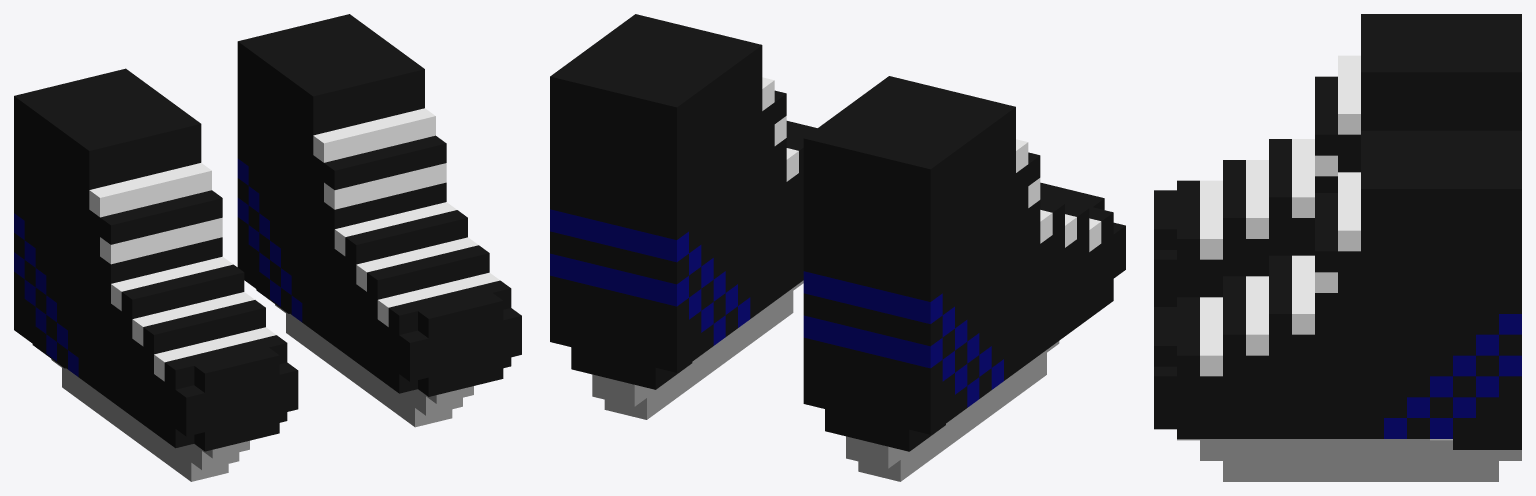
Rendered from Skates.obj.
3 views of the same model, side by side, from view 1: azimuth 30°, elevation 25°; view 2: azimuth 150°, elevation 25°; view 3: azimuth 270°, elevation 25° (orthographic). The views are drawn at different scales.
Bounding box in the file's own units: 18 × 15 × 16.
1 material, 1 textured.
